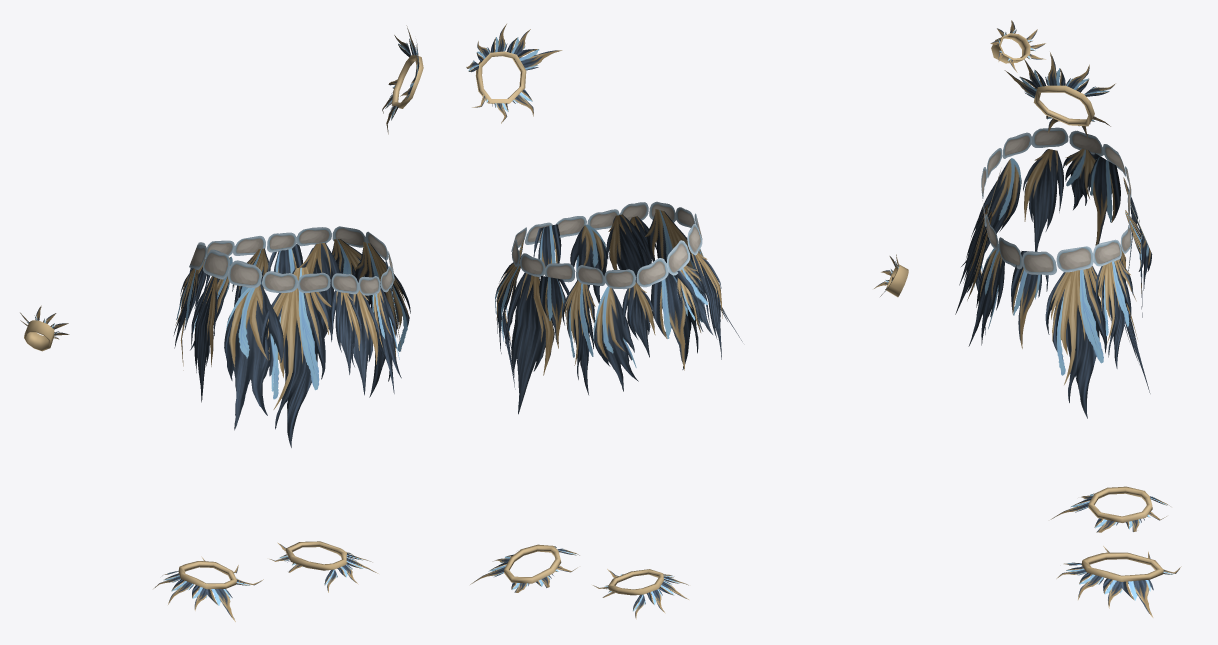
File: F_Fox_Clothes.fbx
3 renders of one model, left to right at view 1: azimuth 30°, elevation 25°; view 2: azimuth 150°, elevation 25°; view 3: azimuth 270°, elevation 25°, orthographic. The views are drawn at different scales.
Visible parts, largest first — view 1: F_Fox_Outfit; view 2: F_Fox_Outfit; view 3: F_Fox_Outfit.
Boxes of the visible parts, x1,y1,x2,y2 form: F_Fox_Outfit: (20, 25, 423, 621); F_Fox_Outfit: (466, 24, 908, 619); F_Fox_Outfit: (955, 20, 1181, 617).
Bounding box in the file's own units: 114 × 146 × 59.57.
Materials: 1 (1 with a texture image).
